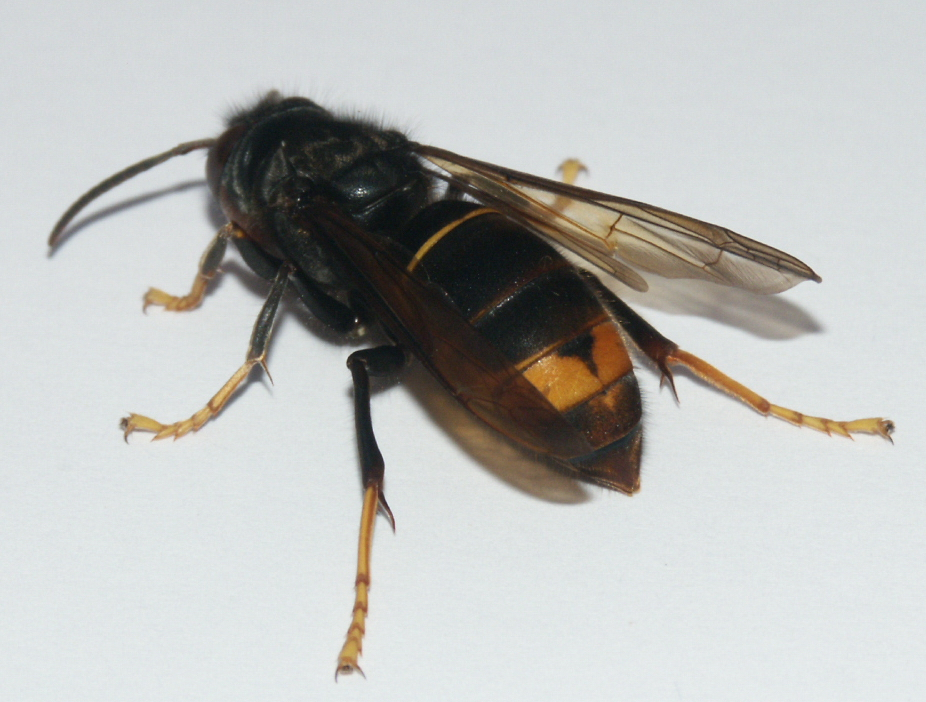hornet: (78, 48, 729, 526)
